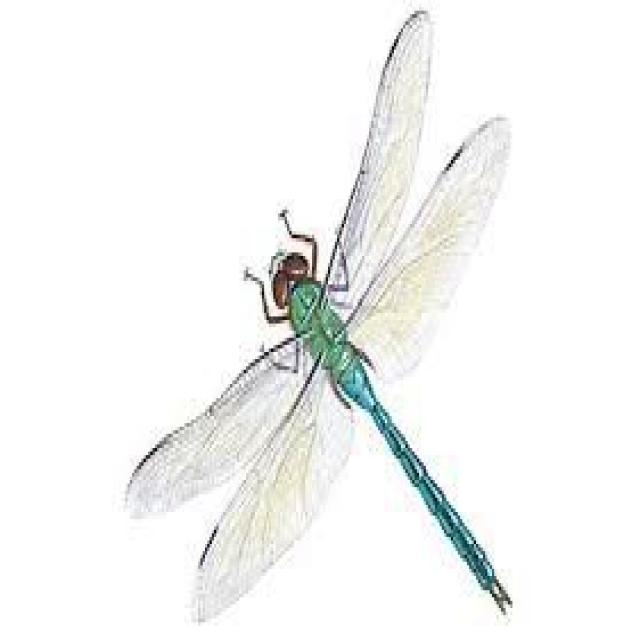dragonfly: (130, 11, 510, 615)
